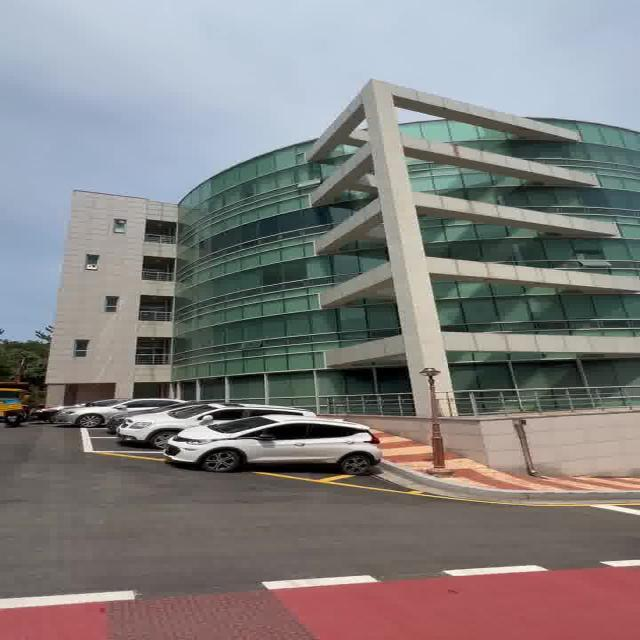building: (71, 82, 640, 404)
